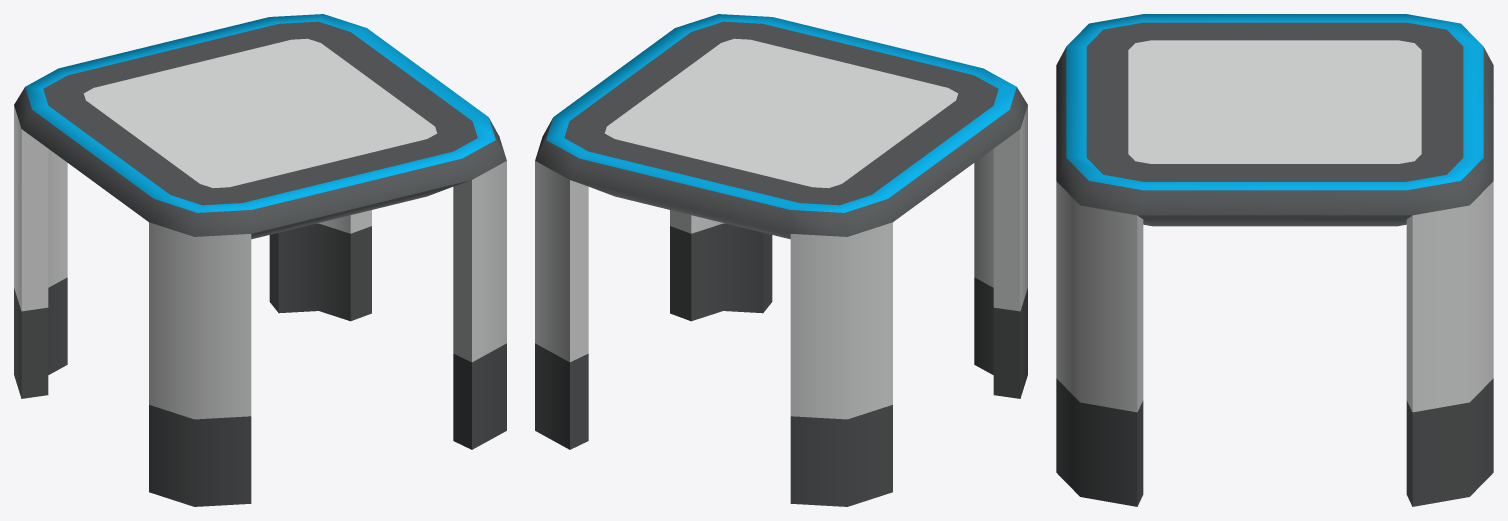
File: Chair_004.fbx
The picture shows the model from 3 angles, left to right: view 1: azimuth 30°, elevation 25°; view 2: azimuth 150°, elevation 25°; view 3: azimuth 270°, elevation 25°; orthographic projection. The views are drawn at different scales.
Parts seen in each view (by area): view 1: Chair_004; view 2: Chair_004; view 3: Chair_004.
Part boxes in pixels (x1,y1,x2,y2): Chair_004: (14,14,506,506); Chair_004: (535,14,1027,506); Chair_004: (1056,14,1493,506).
Size of the model in its own units: 61.03 by 61.03 by 48.13.
